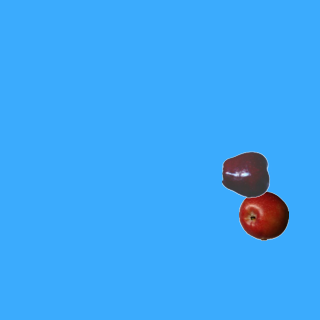Apple Braeburn: (238, 190, 288, 240)
Apple Red Delicious: (221, 149, 271, 199)
